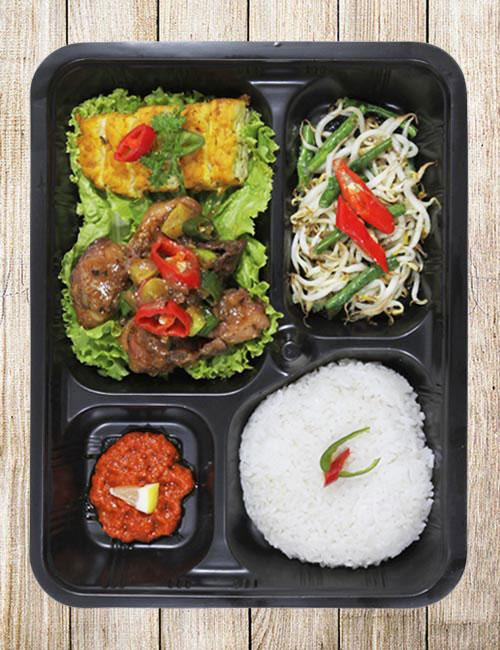buah_sayur_lainnya: (300, 113, 402, 302), (119, 445, 170, 527), (210, 199, 251, 236)
daging: (91, 255, 137, 301), (86, 125, 114, 175)
makanan_berpati: (279, 487, 405, 545)
